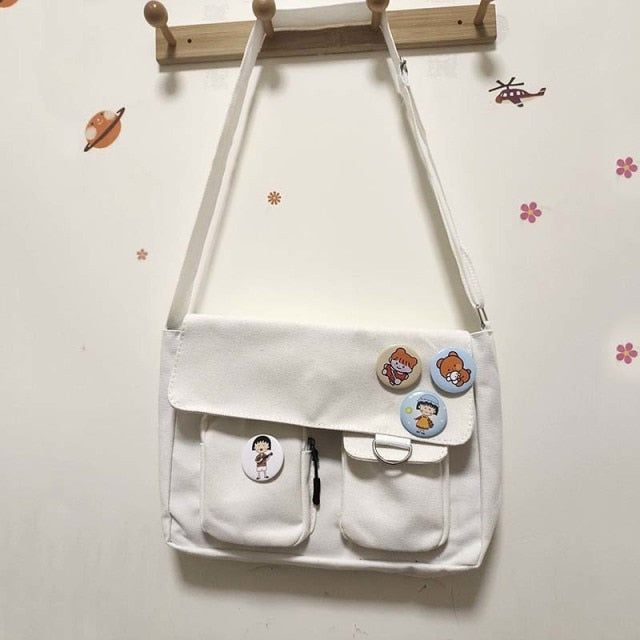nylon: (156, 1, 504, 576)
